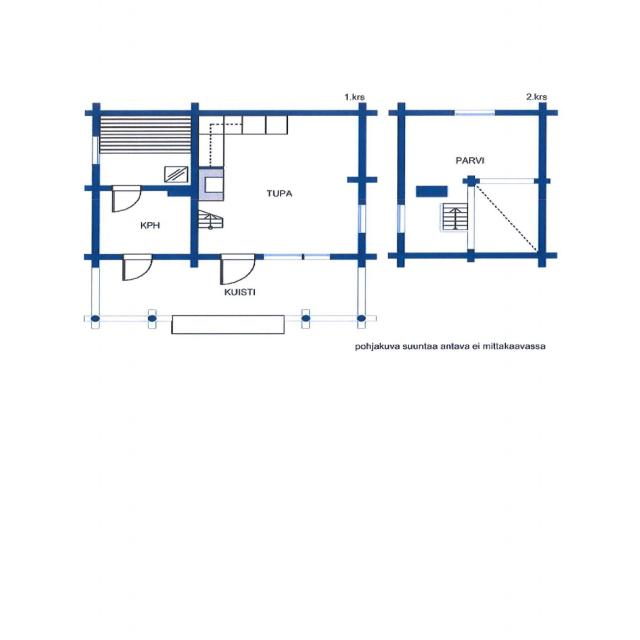door: (220, 254, 254, 284), (122, 254, 152, 280), (112, 185, 141, 211)
